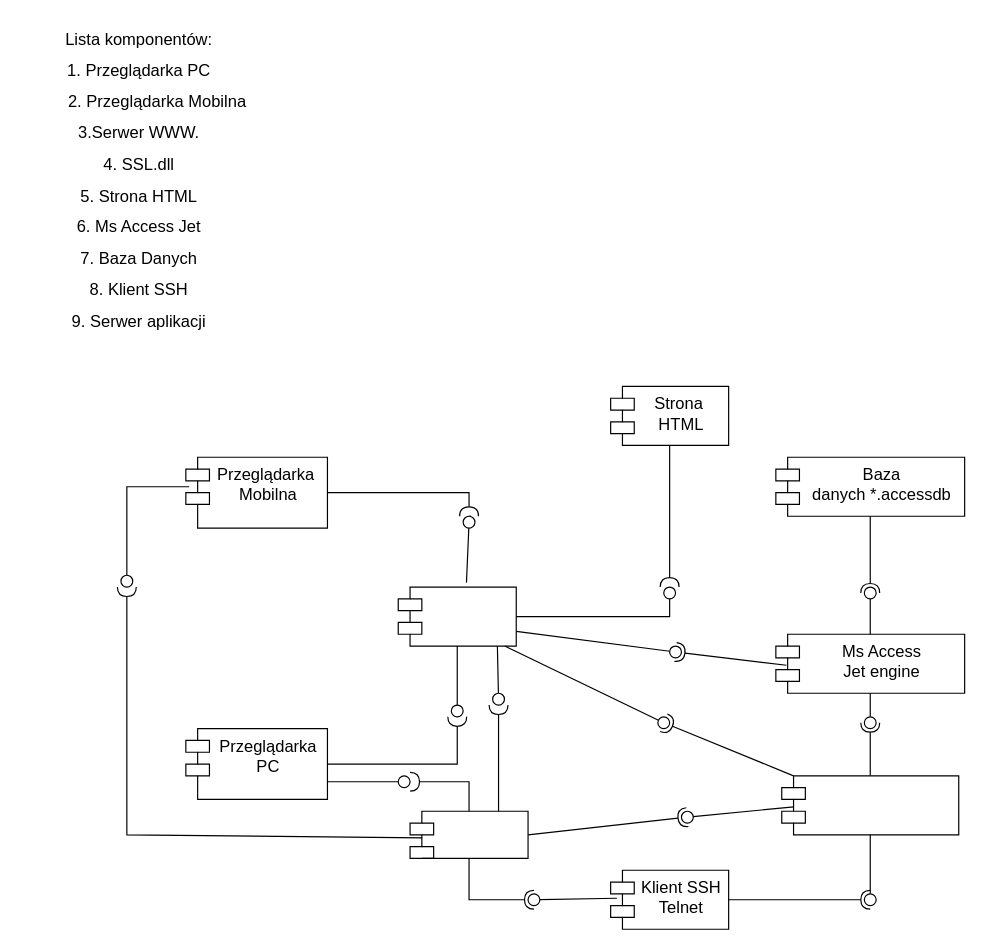
Some shapes in this 985 by 950 pixel diagram are drawn without their labels. Each missing label, with the box of its shape:
Serwer Telnet: (781, 775, 959, 835)
Serwer WWW: (397, 586, 516, 646)
SSL. dll: (409, 810, 528, 858)
